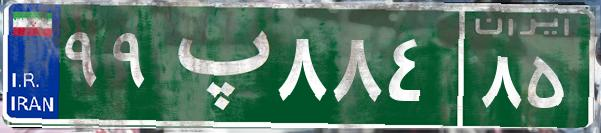4: (385, 28, 445, 110)
5: (525, 38, 570, 115)
8: (273, 28, 330, 110), (330, 28, 385, 110), (475, 38, 525, 113)
9: (57, 26, 110, 107), (110, 28, 158, 105)
پ: (158, 15, 273, 115)
